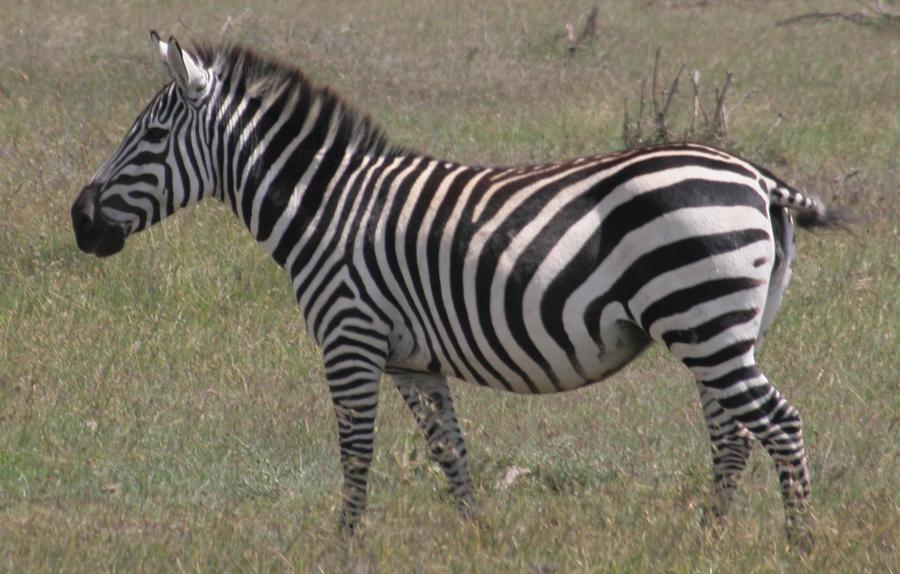zebra_plains: (272, 132, 769, 387)
